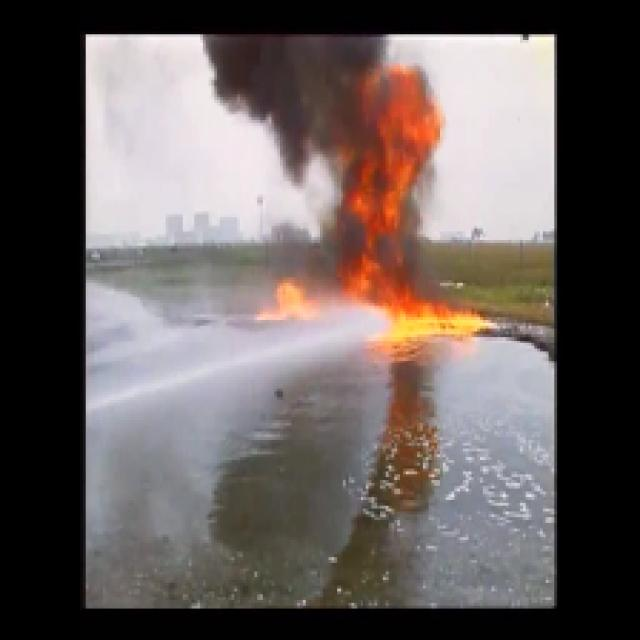smoke: (240, 40, 368, 125), (380, 96, 431, 172)
